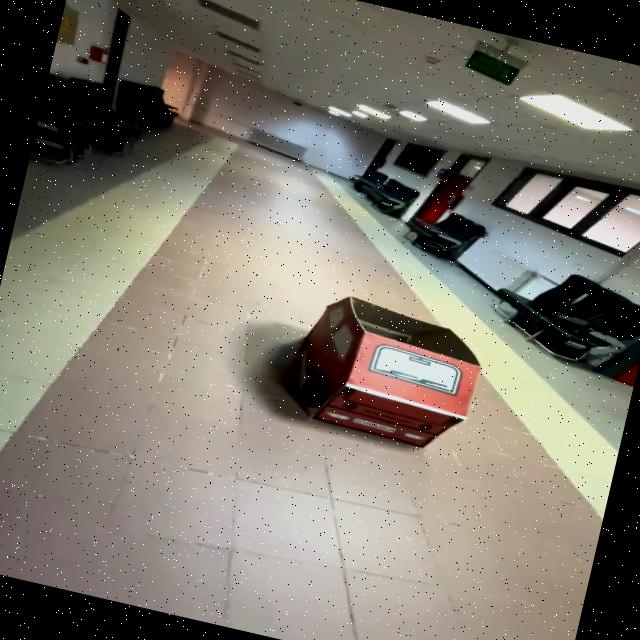red_car: (228, 245, 516, 474)
